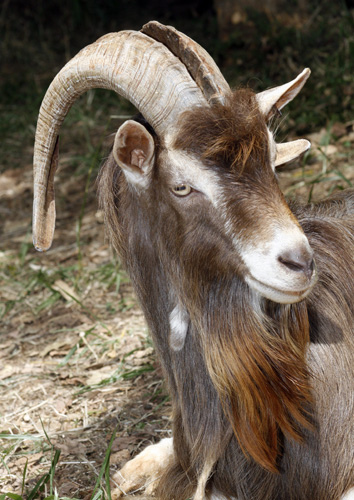goat: (32, 21, 354, 497)
